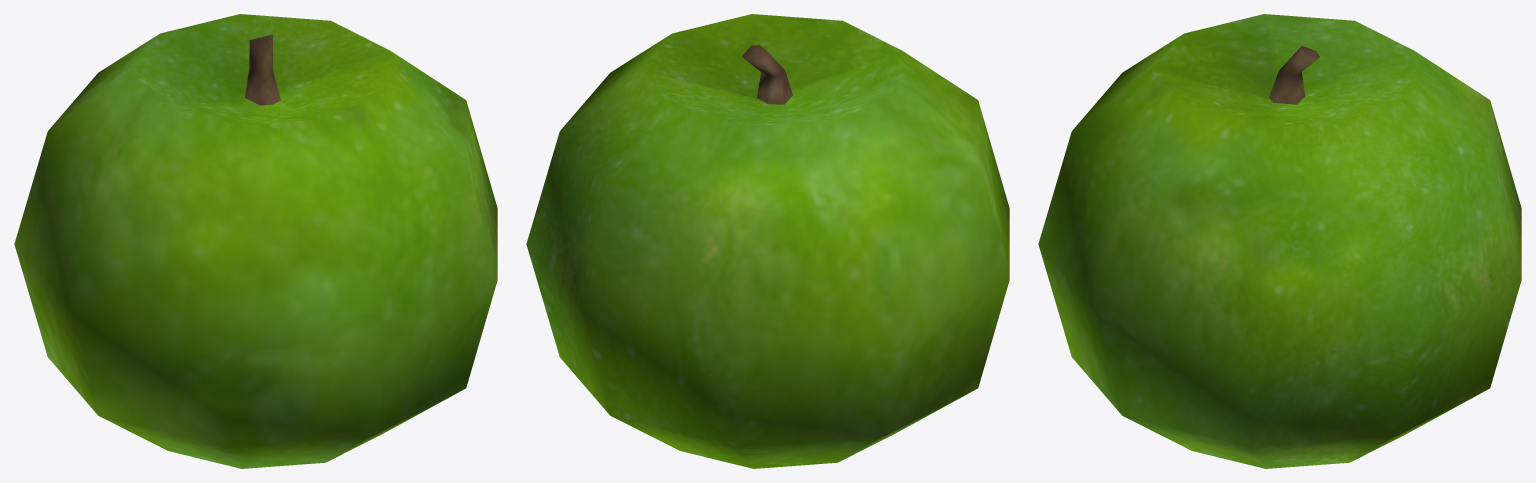
Rendered from Apple.fbx.
The picture shows the model from 3 angles, left to right: view 1: azimuth 30°, elevation 25°; view 2: azimuth 150°, elevation 25°; view 3: azimuth 270°, elevation 25°; orthographic projection.
Parts seen in each view (by area): view 1: Apple; view 2: Apple; view 3: Apple.
Part boxes in pixels (<box>): Apple: <box>14,14,497,468</box>; Apple: <box>526,14,1009,468</box>; Apple: <box>1038,14,1521,468</box>.
Size of the model in its own units: 0.1518 by 0.1277 by 0.1495.
